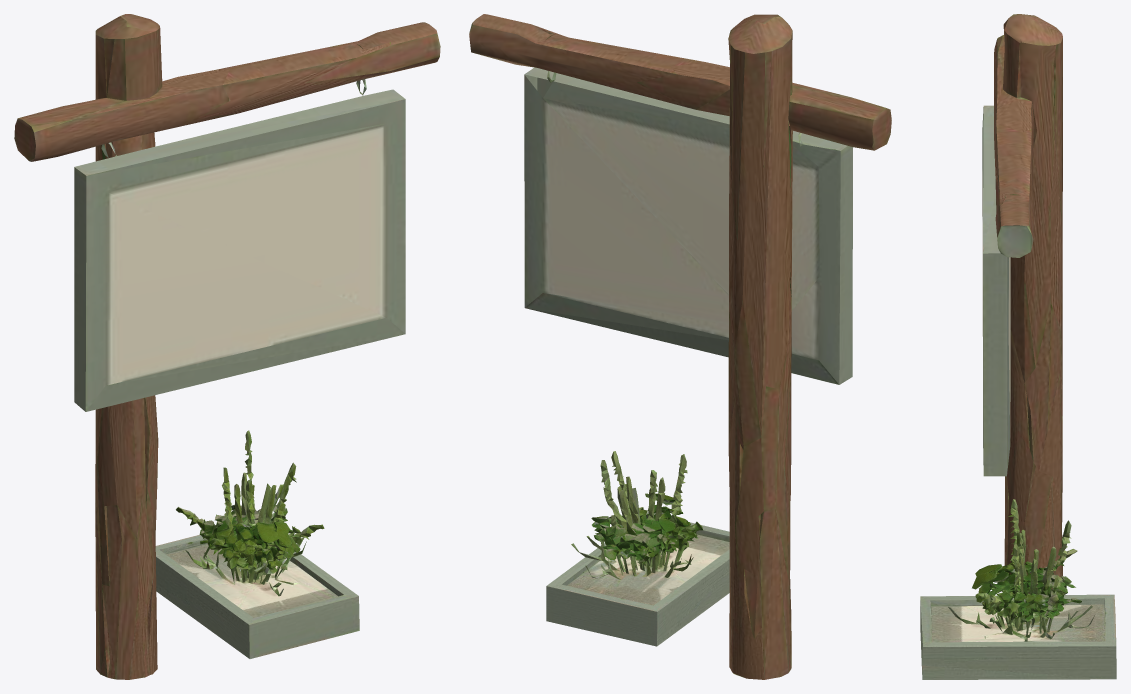
The model's file is signpost.glb.
3 views of the same model, side by side, from view 1: azimuth 30°, elevation 25°; view 2: azimuth 150°, elevation 25°; view 3: azimuth 270°, elevation 25° (orthographic). The views are drawn at different scales.
Bounding box in the file's own units: 1.24 × 1.9 × 0.5479.
Materials: 1 (1 with a texture image).
